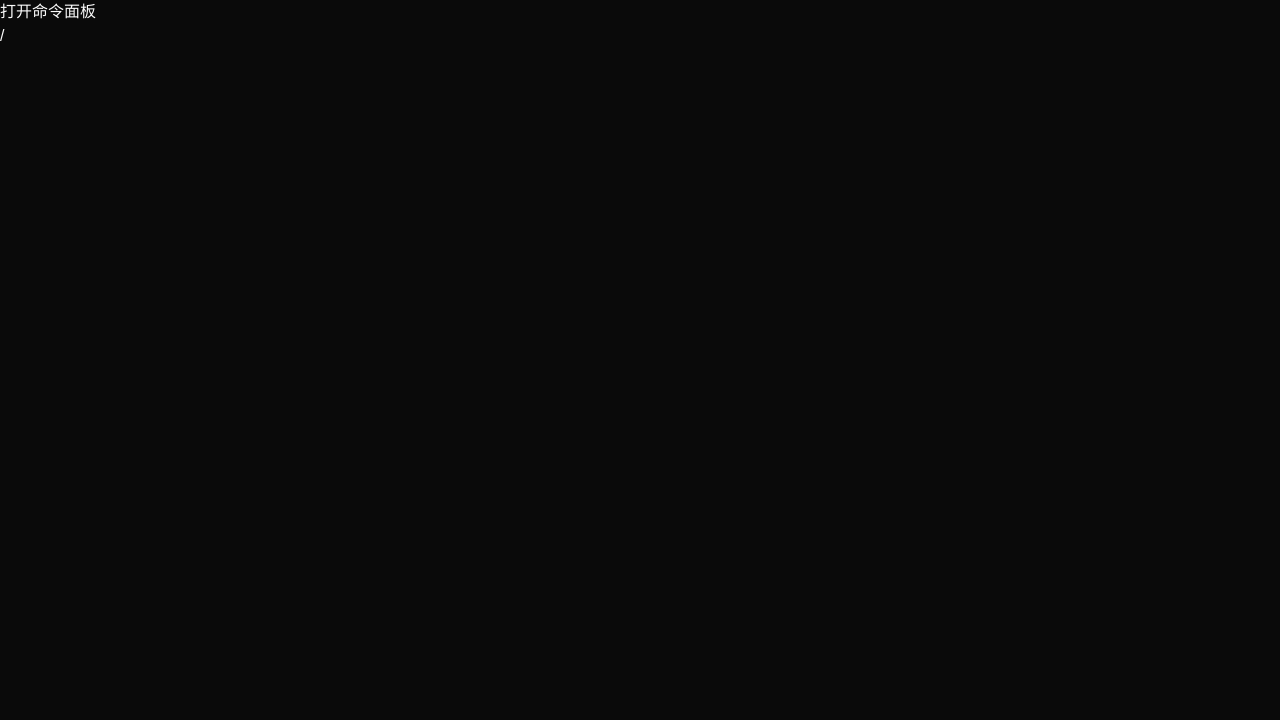
Test case: CommandPalette › 输入过滤：子序列匹配，且只留下命中的条目
Press k
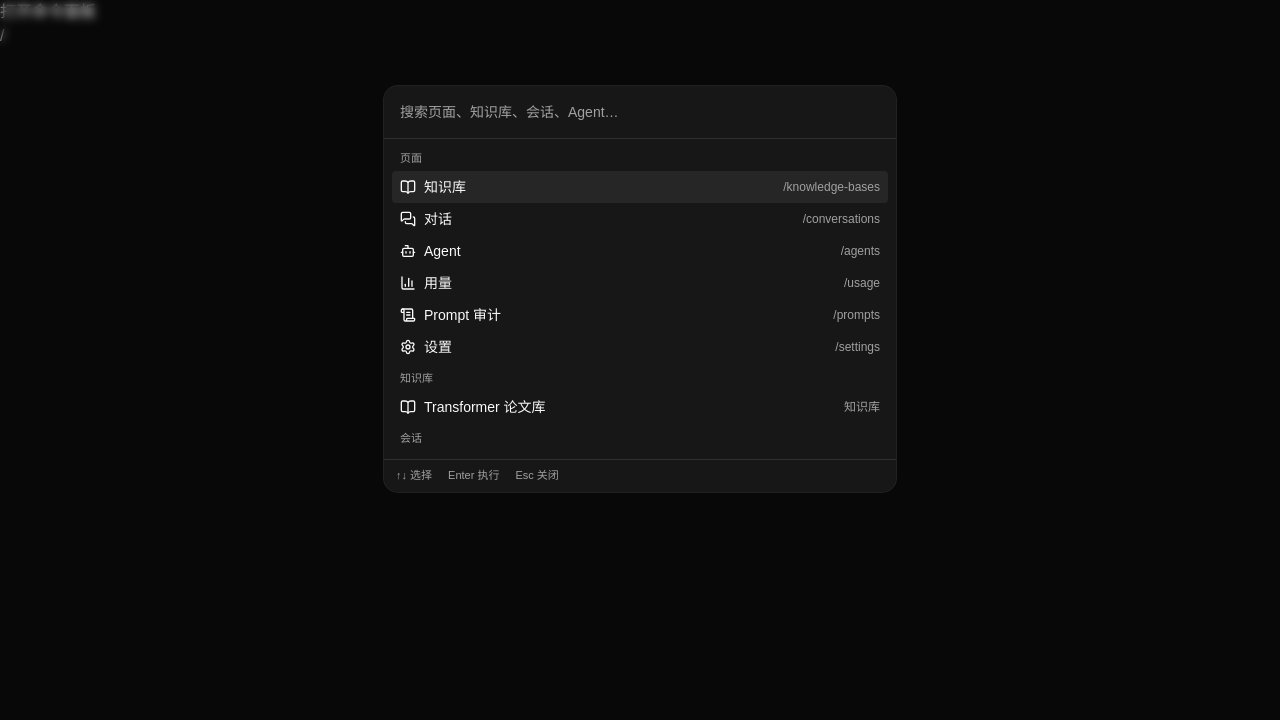
Type "transformer" into the dropdown named "搜索命令". click: point(640, 112)
box: [392, 94, 888, 130]
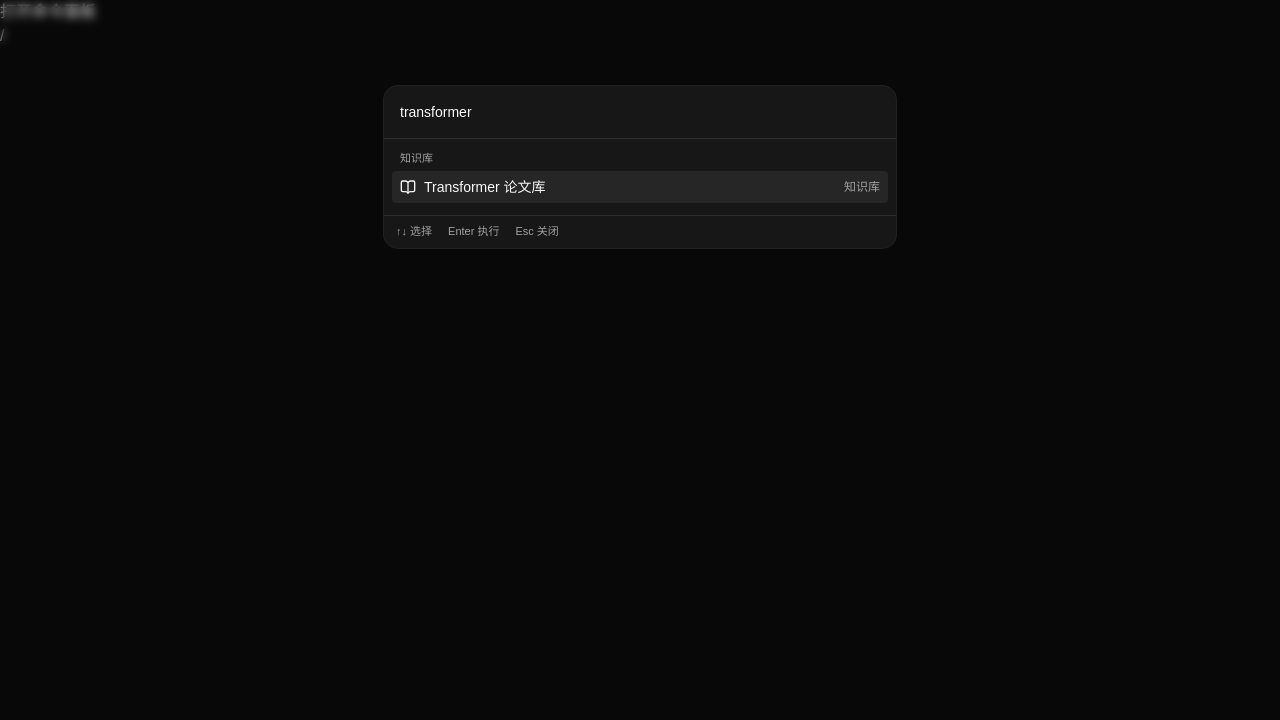
Expected: the text "算数助手" is not shown
Result: the option "Transformer 论文库 知识库" is shown at [392, 171, 888, 203]
Result: the option "设置" is gone
